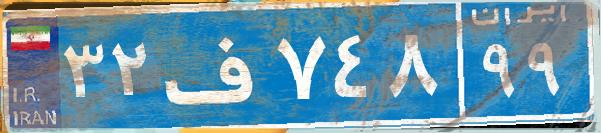2: (110, 28, 158, 105)
3: (57, 26, 110, 107)
4: (330, 28, 385, 110)
7: (273, 28, 330, 110)
8: (385, 28, 445, 110)
9: (475, 38, 525, 113), (525, 38, 570, 115)
ف: (158, 15, 273, 115)
